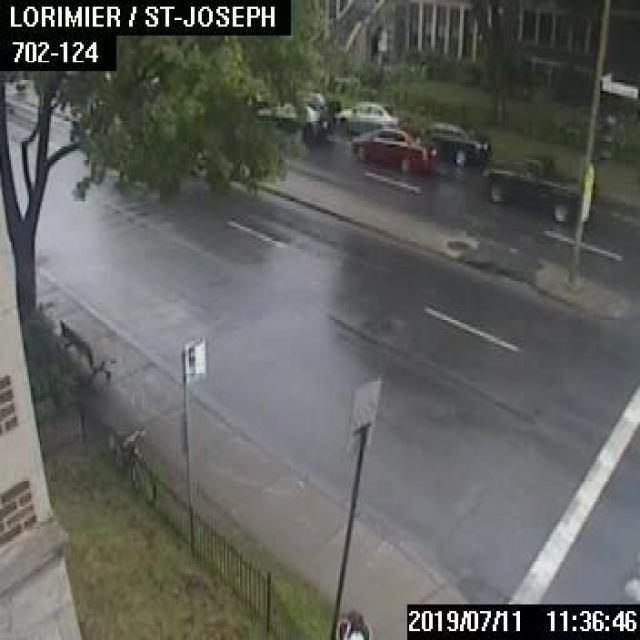vehicle: (482, 153, 578, 223), (350, 124, 436, 172), (417, 120, 490, 166), (256, 103, 328, 144), (334, 100, 401, 132), (305, 90, 338, 126)
